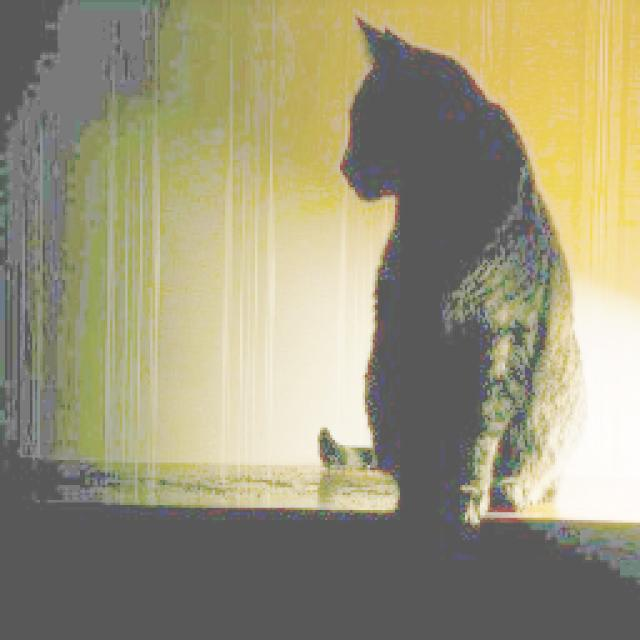cat: (294, 5, 610, 546)
